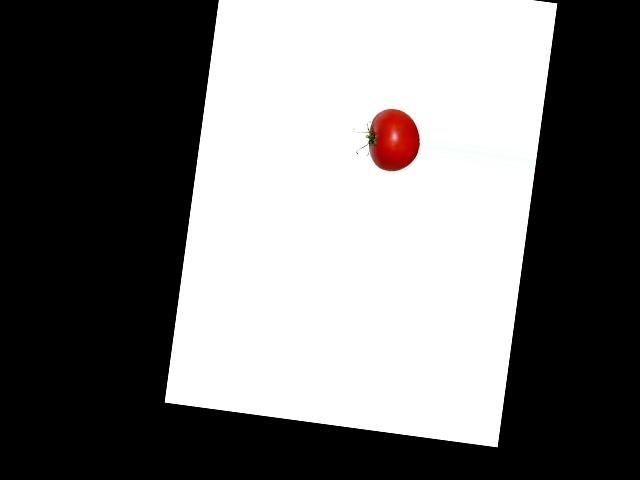tomato: (365, 106, 423, 173)
